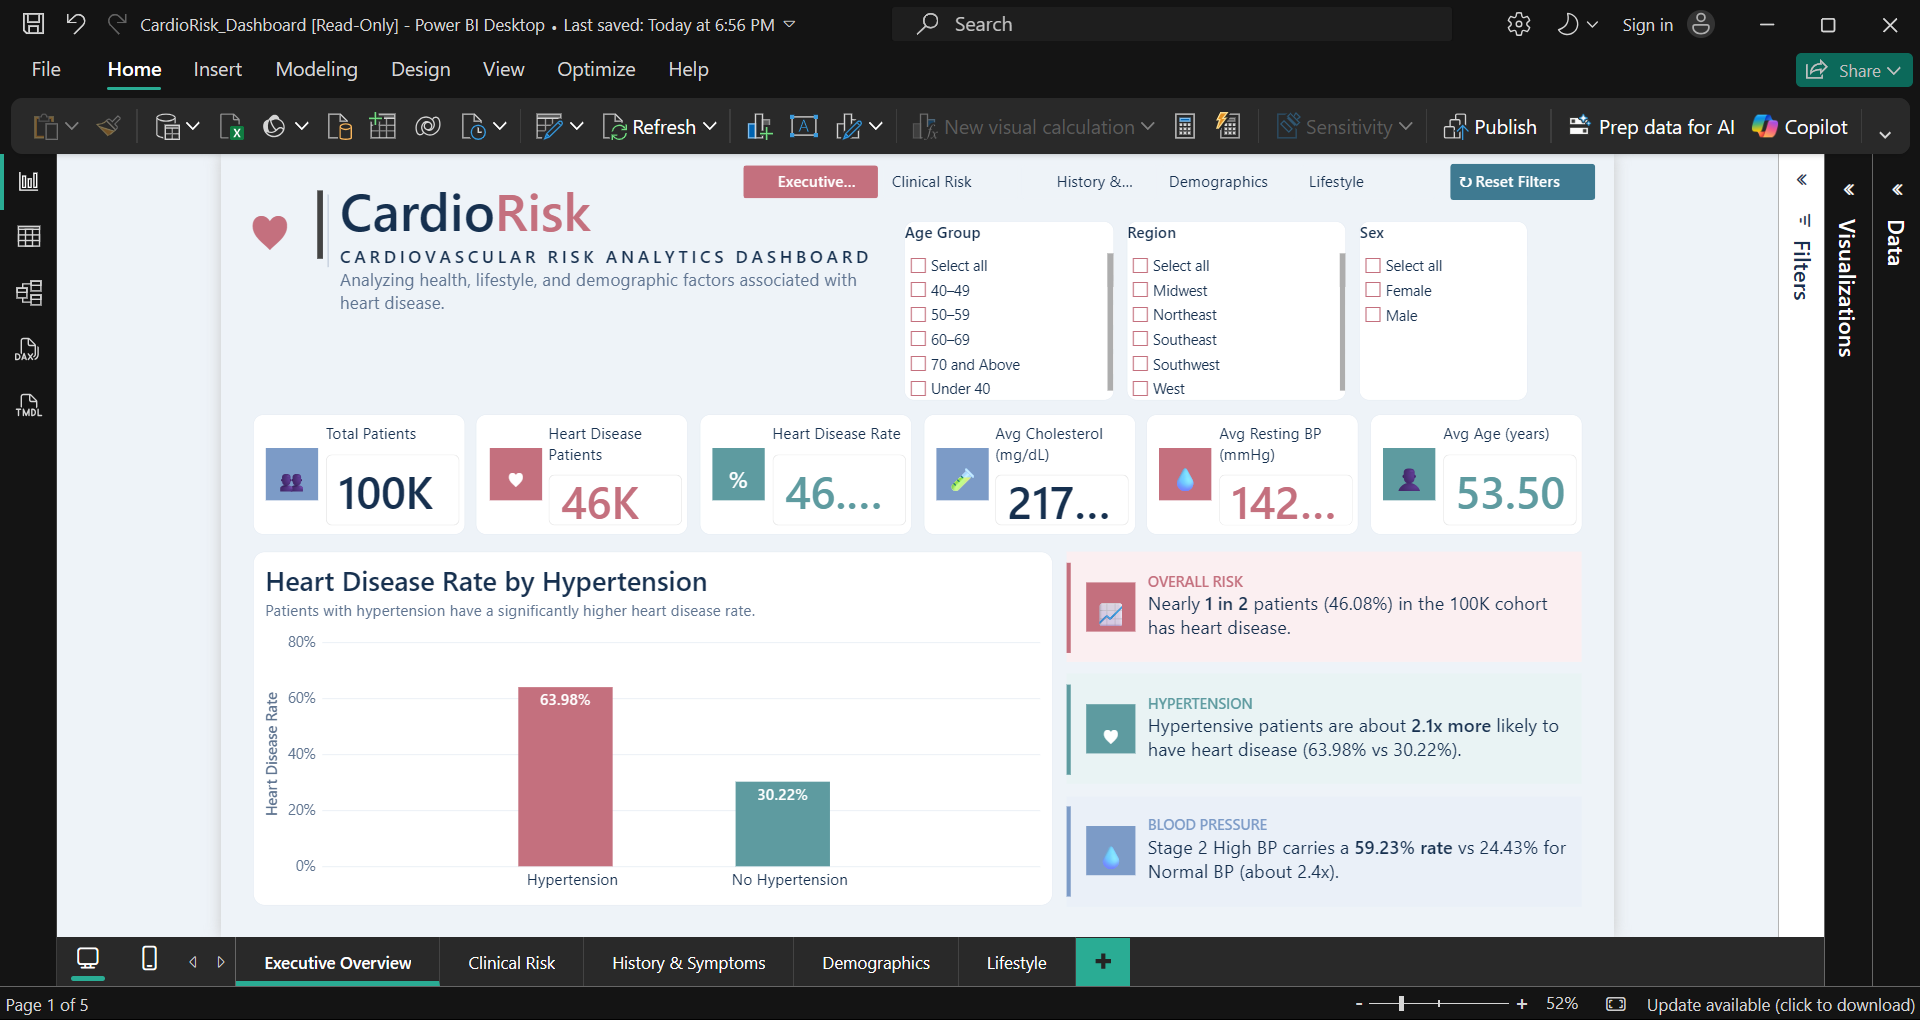

The dashboard page shown, as its layout file describes it:
{"tool":"powerbi","page":{"name":"Executive Overview","canvas":[1920,1080],"ordinal":0},"visuals":[{"type":"textbox","box":[40,50,100,100],"z":900},{"type":"textbox","box":[146,56,2,100],"z":901},{"type":"textbox","box":[164.3,28.1,758.8,263.7],"z":1000},{"type":"textbox","box":[44,359,292,166],"z":1500},{"type":"textbox","box":[352,359,292,166],"z":1501},{"type":"textbox","box":[660,359,292,166],"z":1502},{"type":"textbox","box":[968,359,292,166],"z":1503},{"type":"textbox","box":[1276,359,292,166],"z":1504},{"type":"textbox","box":[1584,359,292,166],"z":1505},{"type":"textbox","box":[62,406,72,72],"z":1600},{"type":"textbox","box":[370,406,72,72],"z":1601},{"type":"textbox","box":[678,406,72,72],"z":1602},{"type":"textbox","box":[986,406,72,72],"z":1603},{"type":"textbox","box":[1294,406,72,72],"z":1604},{"type":"textbox","box":[1602,406,72,72],"z":1605},{"type":"cardVisual","title":"Total Patients","fields":{"Data":["heart_disease_clean.Total Patients"]},"box":[144,371,184,142],"z":1700},{"type":"cardVisual","title":"Heart Disease Patients","fields":{"Data":["heart_disease_clean.Heart Disease Patients"]},"box":[452,371,184,142],"z":1701},{"type":"cardVisual","title":"Heart Disease Rate","fields":{"Data":["heart_disease_clean.Heart Disease Rate"]},"box":[760,371,184,142],"z":1702},{"type":"cardVisual","title":"Avg Cholesterol (mg/dL)","fields":{"Data":["heart_disease_clean.Average Cholesterol"]},"box":[1068,371,184,142],"z":1703},{"type":"cardVisual","title":"Avg Resting BP (mmHg)","fields":{"Data":["heart_disease_clean.Average Resting BP"]},"box":[1376,371,184,142],"z":1704},{"type":"cardVisual","title":"Avg Age (years)","fields":{"Data":["heart_disease_clean.Average Age"]},"box":[1684,371,184,142],"z":1705},{"type":"clusteredColumnChart","title":"Heart Disease Rate by Hypertension","fields":{"Category":["heart_disease_clean.Hypertension Category"],"Y":["heart_disease_clean.Heart Disease Rate by Hypertension"]},"box":[44,549,1102,488],"z":3000},{"type":"textbox","box":[1166,549,710,152],"z":3100},{"type":"textbox","box":[1166,563,6,124],"z":3101},{"type":"textbox","box":[1192,591,68,68],"z":3102},{"type":"textbox","box":[1278,575,582,116],"z":3103},{"type":"textbox","box":[1166,717,710,152],"z":3200},{"type":"textbox","box":[1166,731,6,124],"z":3201},{"type":"textbox","box":[1192,759,68,68],"z":3202},{"type":"textbox","box":[1278,743,582,116],"z":3203},{"type":"textbox","box":[1166,885,710,152],"z":3300},{"type":"textbox","box":[1166,899,6,124],"z":3301},{"type":"textbox","box":[1192,927,68,68],"z":3302},{"type":"textbox","box":[1278,911,582,116],"z":3303},{"type":"actionButton","box":[720,16,186,46],"z":12000},{"type":"actionButton","box":[912,16,186,46],"z":12000},{"type":"actionButton","box":[1104,16,186,46],"z":12000},{"type":"actionButton","box":[1296,16,186,46],"z":12000},{"type":"actionButton","box":[1488,16,186,46],"z":12000},{"type":"slicer","title":"Age Group","fields":{"Values":["heart_disease_clean.Age Group"]},"box":[942,92,289,247],"z":12200},{"type":"slicer","title":"Region","fields":{"Values":["heart_disease_clean.region"]},"box":[1248,92,302,247],"z":12201},{"type":"slicer","title":"Sex","fields":{"Values":["heart_disease_clean.sex"]},"box":[1569,92,232,247],"z":12202},{"type":"actionButton","box":[1694,14,200,50],"z":12300}]}

Visuals, with their boxes on the page's 1920x1080 design canvas (x1, y1, x2, y2). These are canvas units, not pixel positions in the 1920x1020 screenshot, which may show the page scaled, cropped or inside an application window:
textbox: (left=40, top=50, right=140, bottom=150)
textbox: (left=146, top=56, right=148, bottom=156)
textbox: (left=164, top=28, right=923, bottom=292)
textbox: (left=44, top=359, right=336, bottom=525)
textbox: (left=352, top=359, right=644, bottom=525)
textbox: (left=660, top=359, right=952, bottom=525)
textbox: (left=968, top=359, right=1260, bottom=525)
textbox: (left=1276, top=359, right=1568, bottom=525)
textbox: (left=1584, top=359, right=1876, bottom=525)
textbox: (left=62, top=406, right=134, bottom=478)
textbox: (left=370, top=406, right=442, bottom=478)
textbox: (left=678, top=406, right=750, bottom=478)
textbox: (left=986, top=406, right=1058, bottom=478)
textbox: (left=1294, top=406, right=1366, bottom=478)
textbox: (left=1602, top=406, right=1674, bottom=478)
"Total Patients" cardVisual: (left=144, top=371, right=328, bottom=513)
"Heart Disease Patients" cardVisual: (left=452, top=371, right=636, bottom=513)
"Heart Disease Rate" cardVisual: (left=760, top=371, right=944, bottom=513)
"Avg Cholesterol (mg/dL)" cardVisual: (left=1068, top=371, right=1252, bottom=513)
"Avg Resting BP (mmHg)" cardVisual: (left=1376, top=371, right=1560, bottom=513)
"Avg Age (years)" cardVisual: (left=1684, top=371, right=1868, bottom=513)
"Heart Disease Rate by Hypertension" clusteredColumnChart: (left=44, top=549, right=1146, bottom=1037)
textbox: (left=1166, top=549, right=1876, bottom=701)
textbox: (left=1166, top=563, right=1172, bottom=687)
textbox: (left=1192, top=591, right=1260, bottom=659)
textbox: (left=1278, top=575, right=1860, bottom=691)
textbox: (left=1166, top=717, right=1876, bottom=869)
textbox: (left=1166, top=731, right=1172, bottom=855)
textbox: (left=1192, top=759, right=1260, bottom=827)
textbox: (left=1278, top=743, right=1860, bottom=859)
textbox: (left=1166, top=885, right=1876, bottom=1037)
textbox: (left=1166, top=899, right=1172, bottom=1023)
textbox: (left=1192, top=927, right=1260, bottom=995)
textbox: (left=1278, top=911, right=1860, bottom=1027)
actionButton: (left=720, top=16, right=906, bottom=62)
actionButton: (left=912, top=16, right=1098, bottom=62)
actionButton: (left=1104, top=16, right=1290, bottom=62)
actionButton: (left=1296, top=16, right=1482, bottom=62)
actionButton: (left=1488, top=16, right=1674, bottom=62)
"Age Group" slicer: (left=942, top=92, right=1231, bottom=339)
"Region" slicer: (left=1248, top=92, right=1550, bottom=339)
"Sex" slicer: (left=1569, top=92, right=1801, bottom=339)
actionButton: (left=1694, top=14, right=1894, bottom=64)
